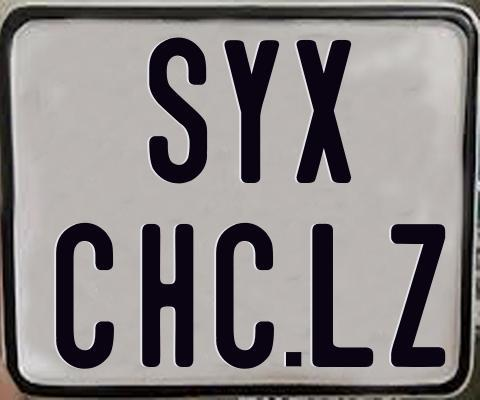C: (216, 222, 280, 371), (56, 222, 119, 368)
H: (139, 223, 196, 371)
L: (310, 223, 372, 371)
S: (146, 37, 206, 190)
X: (296, 37, 355, 186)
Y: (222, 37, 278, 181)
Z: (390, 222, 450, 371)
